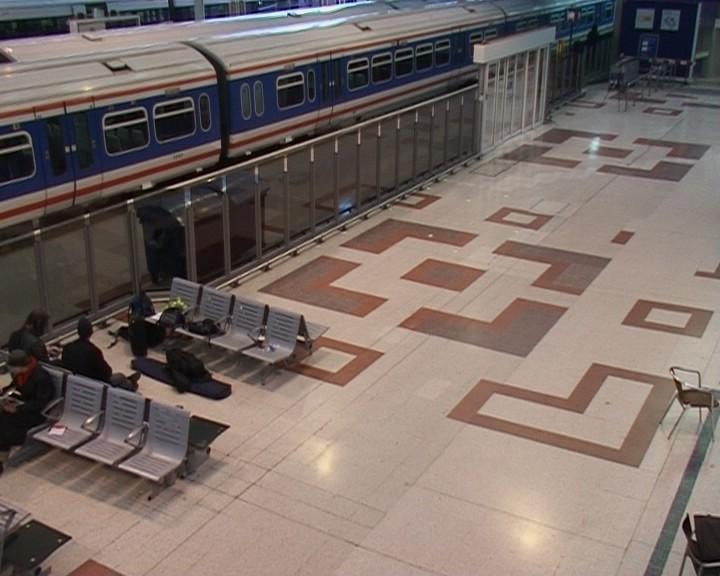person: (60, 305, 130, 416), (2, 353, 50, 439), (11, 299, 52, 350)
